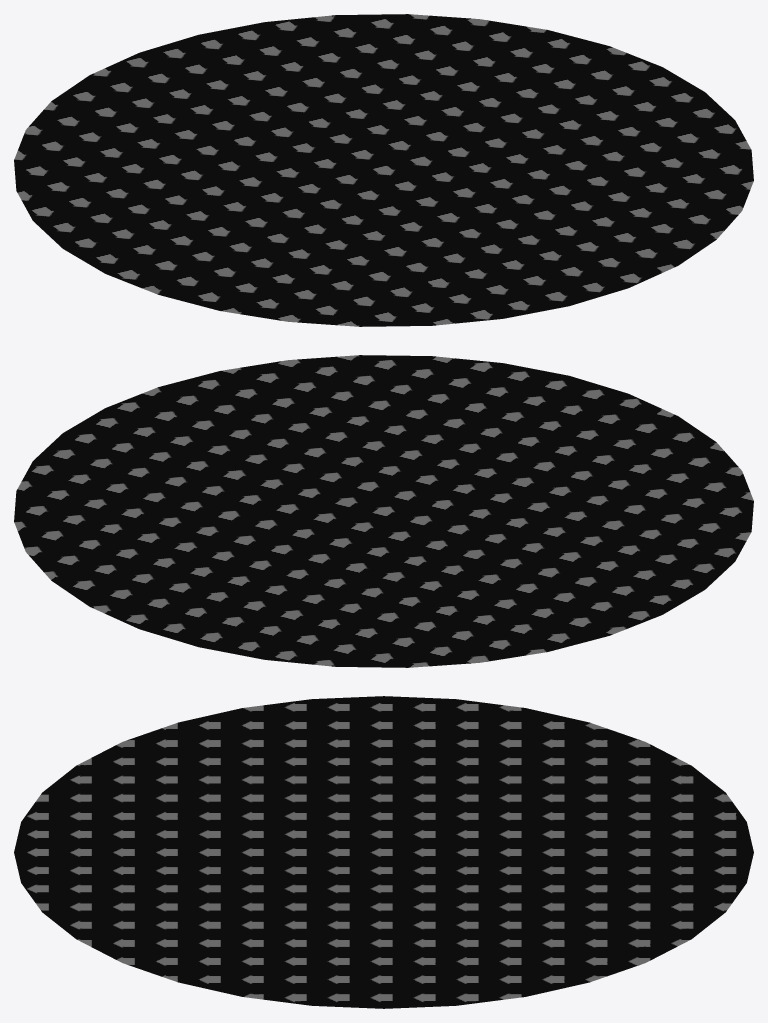
File: windplane.gltf
The picture shows the model from 3 angles, top to bottom: view 1: azimuth 30°, elevation 25°; view 2: azimuth 150°, elevation 25°; view 3: azimuth 270°, elevation 25°; orthographic projection.
Parts seen in each view (by area): view 1: windplane-disk; view 2: windplane-disk; view 3: windplane-disk.
Part boxes in pixels (left/top/right/bottom): windplane-disk: left=14, top=14, right=753, bottom=326; windplane-disk: left=14, top=355, right=753, bottom=667; windplane-disk: left=14, top=696, right=753, bottom=1008.
Size of the model in its own units: 62.72 by 0 by 62.72.
Materials: 1 (1 with a texture image).
